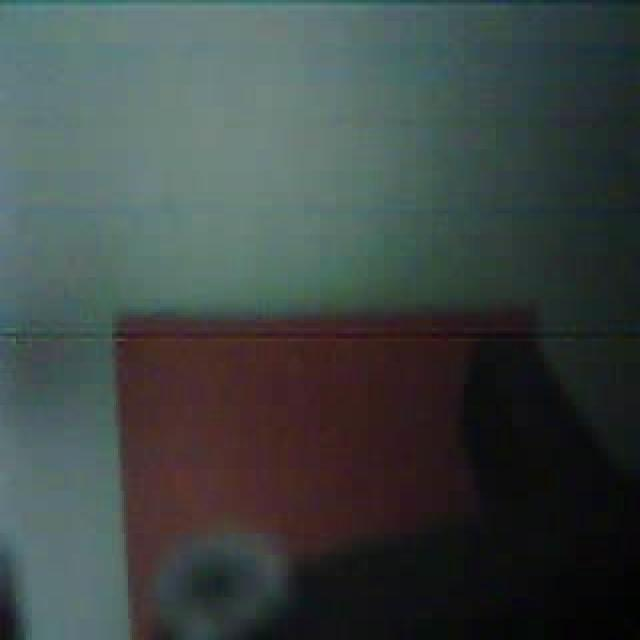red_box: (112, 314, 547, 630)
